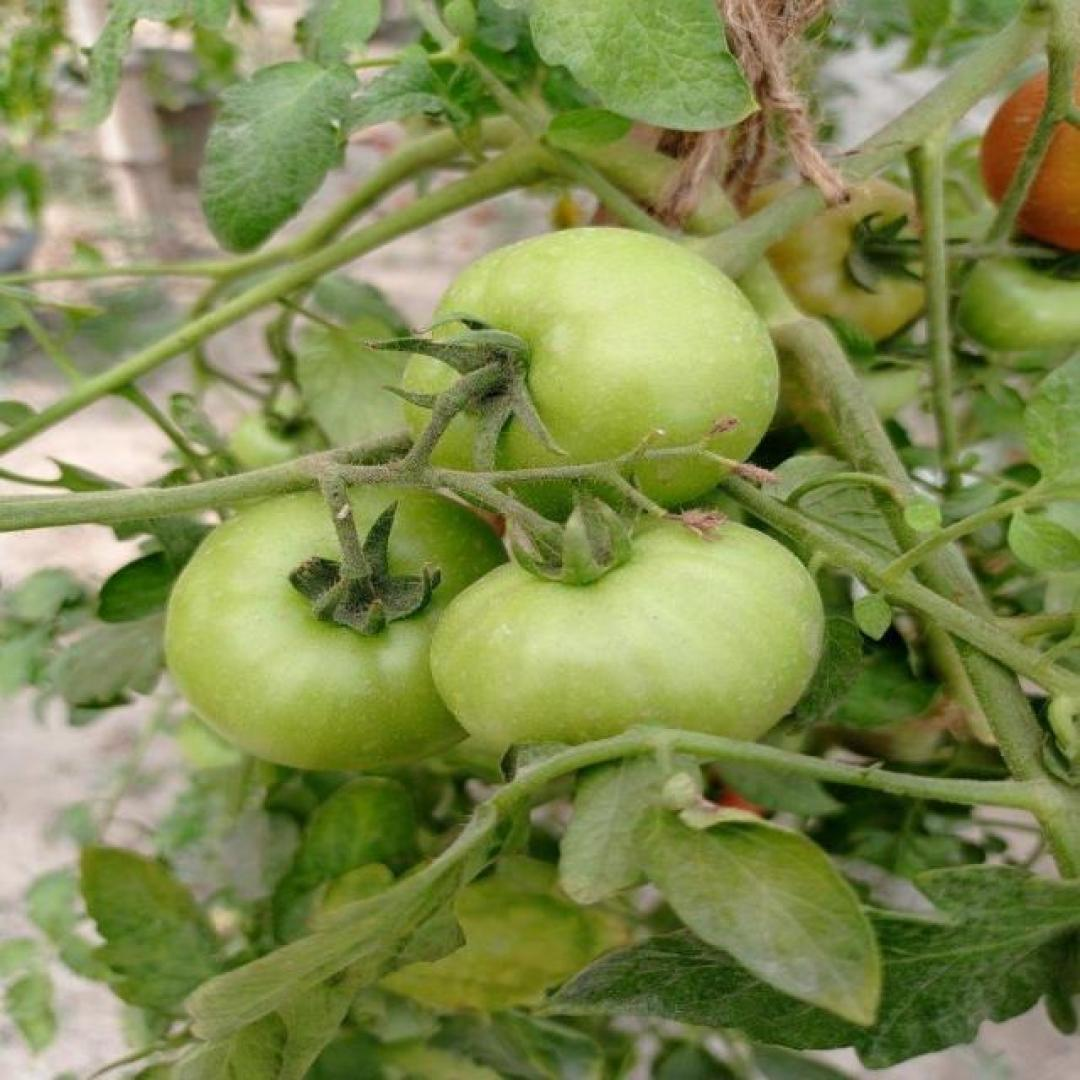mentah: (397, 225, 783, 523), (153, 479, 536, 773), (425, 515, 829, 786)
